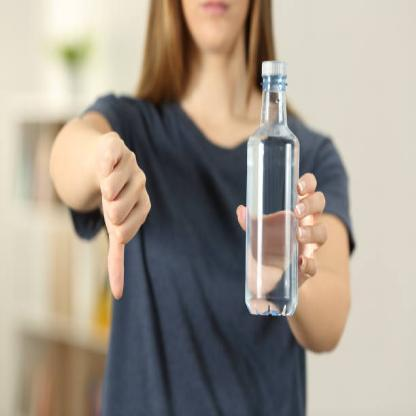thumb_down: (90, 126, 155, 302)
